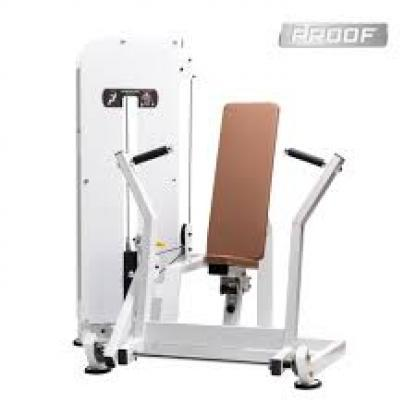Chest Press machine: (63, 30, 357, 398)
